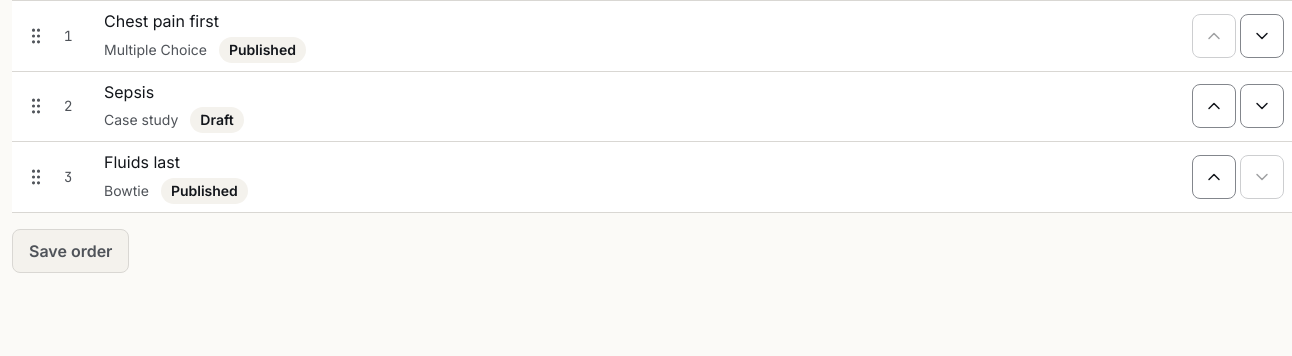
Test: QuizOrderEditor › announces a refusal and keeps the order the teacher made
The image size is (1292, 356).
Click the button named "Move \"Sepsis\" down". click: (1262, 106)
box: x1=1240 y1=84 x2=1284 y2=128
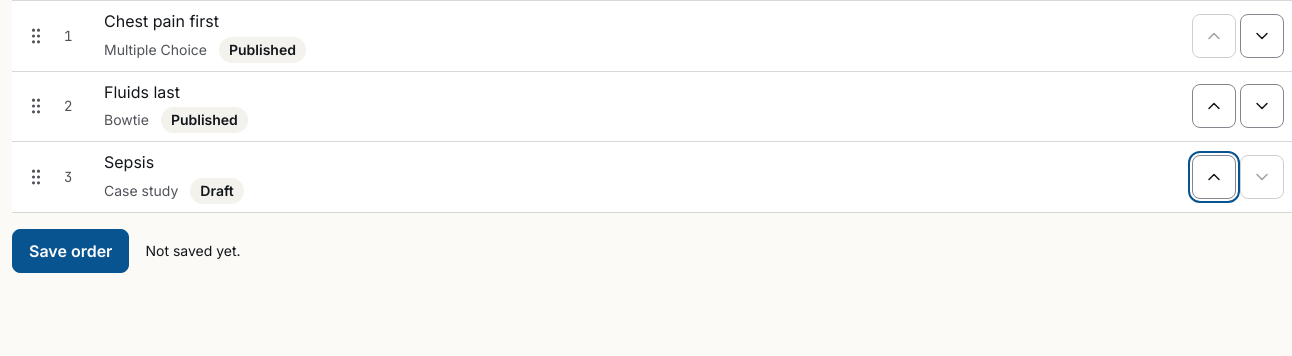
Click the button "Save order". click: (71, 251)
box: x1=12 y1=229 x2=130 y2=273
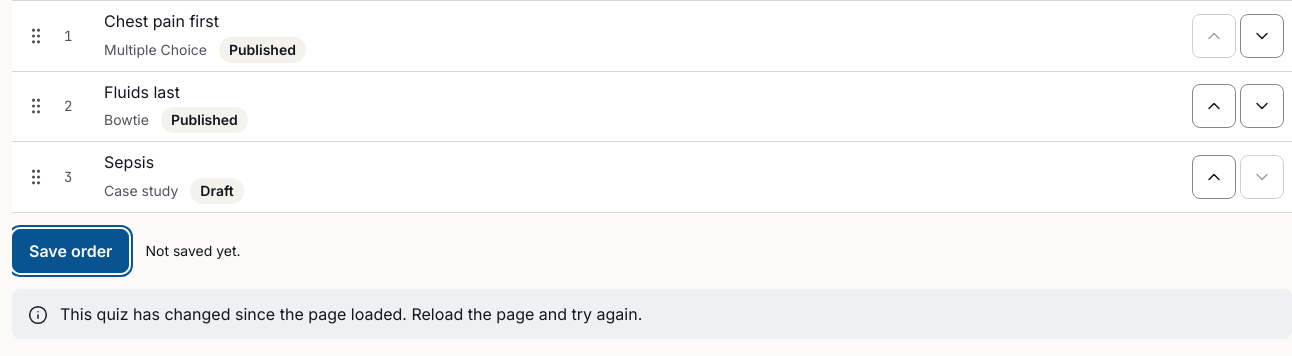
Check: the button "Save order" is enabled, box x1=12 y1=229 x2=130 y2=273
Check: the message "This quiz has changed since the page loaded. Reload the page and try again." is shown, box x1=12 y1=289 x2=1291 y2=339
// Once the list no longer shows the order that was refused, neither does the refusal.
Click the button named "Move \"Sepsis\" up". click: (1214, 177)
box: x1=1192 y1=155 x2=1236 y2=199
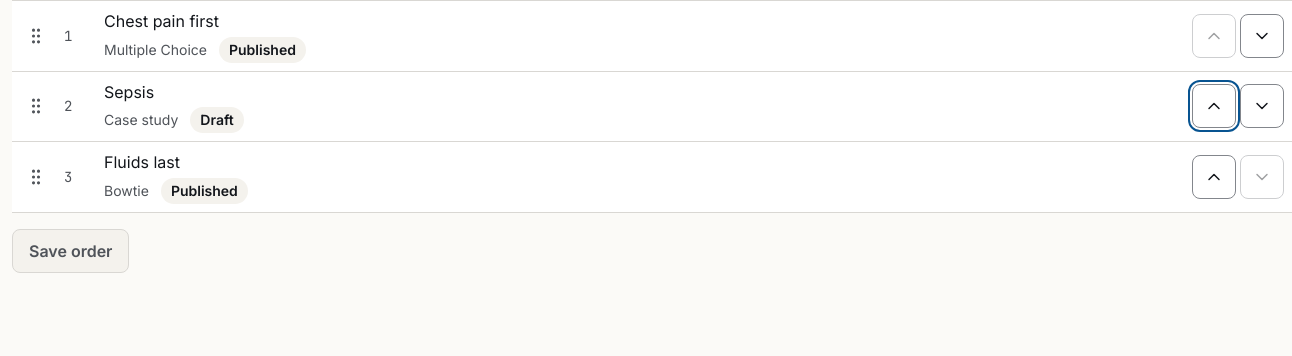
Check: the message "Not saved yet." is gone
